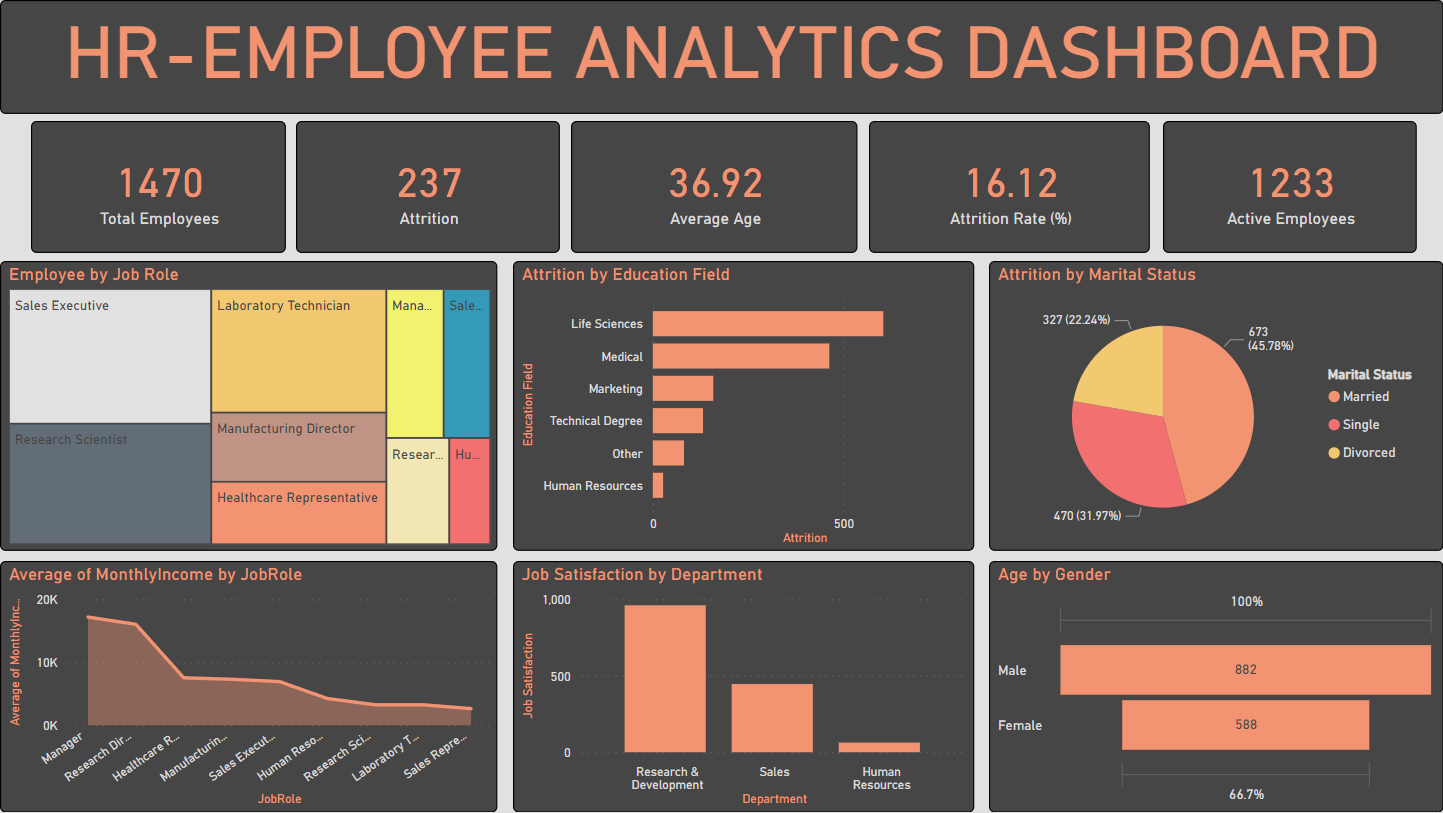

Layout of this report page (visuals, bound fields, positions):
{"tool":"powerbi","page":{"name":"Page 1","canvas":[1280,720],"ordinal":0},"visuals":[{"type":"card","fields":{"Values":["Sum(HR-Employee-Attrition.EmployeeCount)"]},"box":[27.5,107.3,226.1,117],"z":0},{"type":"card","fields":{"Values":["Min(HR-Employee-Attrition.ActiveEmployees)"]},"box":[262.5,107.3,234.1,117],"z":1000},{"type":"card","fields":{"Values":["Avg(HR-Employee-Attrition.Attrition Rate (%))"]},"box":[770.5,107.3,249.2,117],"z":2000},{"type":"card","fields":{"Values":["Min(HR-Employee-Attrition.TotalAttrition)"]},"box":[506.3,107.3,254.5,117],"z":3000},{"type":"treemap","fields":{"Values":["Sum(HR-Employee-Attrition.EmployeeCount)"],"Details":["HR-Employee-Attrition.JobRole"]},"box":[0,231.4,440.7,257.1],"z":4000},{"type":"card","fields":{"Values":["Avg(HR-Employee-Attrition.AverageAge)"]},"box":[1031.2,107.3,225.2,117],"z":5000},{"type":"clusteredBarChart","fields":{"Category":["HR-Employee-Attrition.EducationField"],"Y":["CountNonNull(HR-Employee-Attrition.TotalAttrition)"]},"box":[454.9,231.4,408.8,257.1],"z":6000},{"type":"pieChart","fields":{"Category":["HR-Employee-Attrition.MaritalStatus"],"Y":["CountNonNull(HR-Employee-Attrition.TotalAttrition)"]},"box":[876.9,231.4,403.4,257.1],"z":7000},{"type":"areaChart","fields":{"Category":["HR-Employee-Attrition.JobRole"],"Y":["Avg(HR-Employee-Attrition.MonthlyIncome)"]},"box":[0,497.4,440.7,222.6],"z":8000},{"type":"lineClusteredColumnComboChart","fields":{"Category":["HR-Employee-Attrition.Department"],"Y":["CountNonNull(HR-Employee-Attrition.JobSatisfaction)"]},"box":[454.9,497.4,408.8,222.6],"z":8001},{"type":"funnel","fields":{"Category":["HR-Employee-Attrition.Gender"],"Y":["CountNonNull(HR-Employee-Attrition.Age)"]},"box":[877,497,403,223],"z":8002},{"type":"textbox","box":[0,0,1279.5,101.1],"z":8003}]}

Visuals, with their boxes in screenshot pixels (x1, y1, x2, y2), scaled from the page's 1280x720 canvas onto the 1443x813 screenshot:
card - Sum(HR-Employee-Attrition.EmployeeCount): 31 121 286 253
card - Min(HR-Employee-Attrition.ActiveEmployees): 296 121 560 253
card - Avg(HR-Employee-Attrition.Attrition Rate (%)): 869 121 1150 253
card - Min(HR-Employee-Attrition.TotalAttrition): 571 121 858 253
treemap - Sum(HR-Employee-Attrition.EmployeeCount) x HR-Employee-Attrition.JobRole: 0 261 497 552
card - Avg(HR-Employee-Attrition.AverageAge): 1163 121 1416 253
clusteredBarChart - HR-Employee-Attrition.EducationField x CountNonNull(HR-Employee-Attrition.TotalAttrition): 513 261 974 552
pieChart - HR-Employee-Attrition.MaritalStatus x CountNonNull(HR-Employee-Attrition.TotalAttrition): 989 261 1442 552
areaChart - HR-Employee-Attrition.JobRole x Avg(HR-Employee-Attrition.MonthlyIncome): 0 562 497 812
lineClusteredColumnComboChart - HR-Employee-Attrition.Department x CountNonNull(HR-Employee-Attrition.JobSatisfaction): 513 562 974 812
funnel - HR-Employee-Attrition.Gender x CountNonNull(HR-Employee-Attrition.Age): 989 561 1442 812
textbox: 0 0 1442 114
